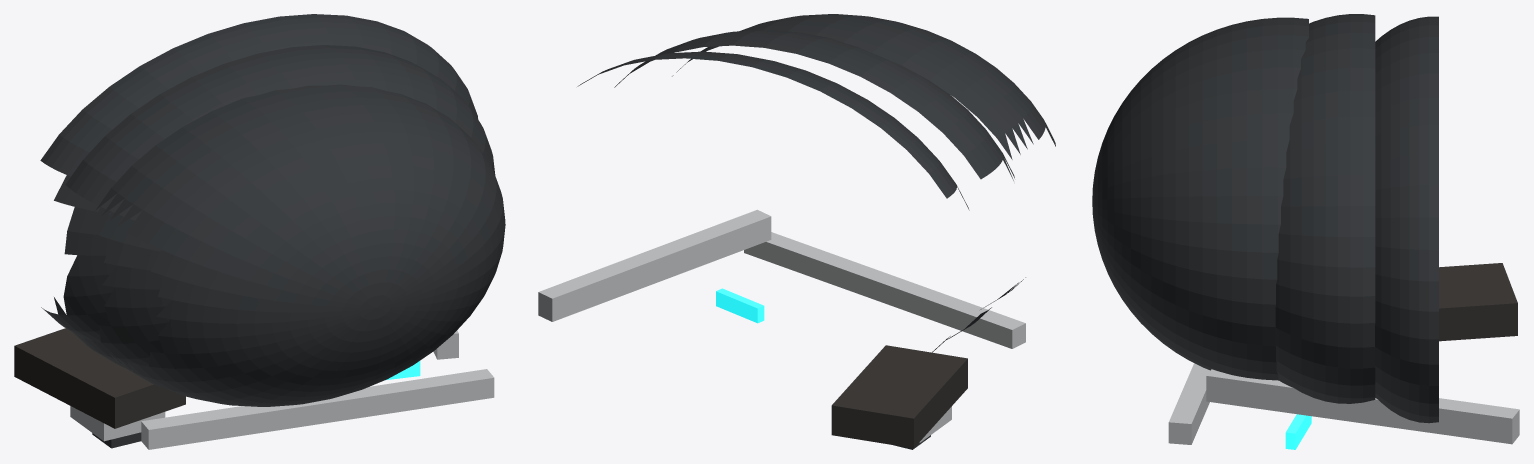
Rendered from night_current_shoulder_armor_v01.glb.
3 views of the same model, side by side, from view 1: azimuth 30°, elevation 25°; view 2: azimuth 150°, elevation 25°; view 3: azimuth 270°, elevation 25° (orthographic). The views are drawn at different scales.
Parts seen in each view (by area): view 1: shoulder_shell_top, shoulder_shell_mid, shoulder_shell_low, rim_top, strap, clasp; view 2: shoulder_shell_top, strap, shoulder_shell_mid, rim_top, rim_side, shoulder_shell_low, cyan_seam; view 3: shoulder_shell_top, shoulder_shell_mid, shoulder_shell_low, rim_side, strap, rim_top, cyan_seam.
Boxes of the visible parts, x1,y1,x2,y2 form: shoulder_shell_top: (95,84,505,406); shoulder_shell_mid: (65,45,495,370); shoulder_shell_low: (40,14,478,342); rim_top: (141,369,494,449); strap: (14,328,185,428); clasp: (70,406,165,441); shoulder_shell_top: (672,14,1055,309); strap: (831,345,967,448); shoulder_shell_mid: (614,30,1014,339); rim_top: (744,232,1025,348); rim_side: (538,209,771,321); shoulder_shell_low: (577,51,969,353); cyan_seam: (716,288,764,323); shoulder_shell_top: (1092,17,1308,380); shoulder_shell_mid: (1275,14,1375,403); shoulder_shell_low: (1375,16,1438,423); rim_side: (1206,369,1519,444); strap: (1439,263,1517,341); rim_top: (1168,363,1210,444); cyan_seam: (1285,414,1311,449).
Size of the model in its own units: 0.4171 by 0.3304 by 0.3315.
